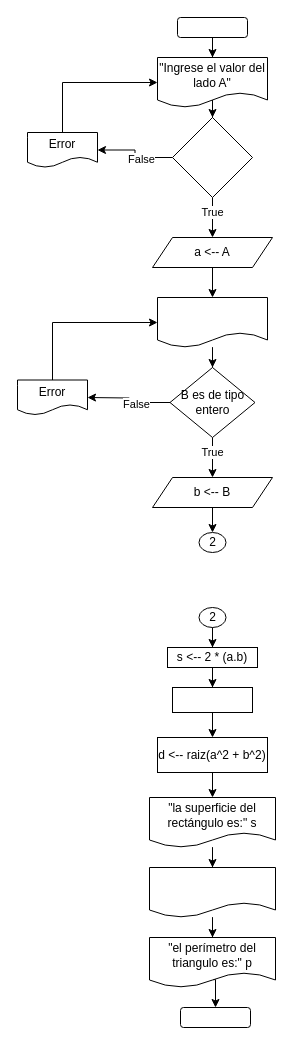
Some shapes in this 293 by 1045 pixel diagram are drawn without their labels. The centre of each missing label's shape, as x and y in pixels:
"Ingrese el valor del lado B": (212,322)
"la diagonal del rectángulo es:" d: (212,892)
A es de tipo entero: (212,157)
fin: (215,1017)
inicio: (212,27)
p <-- a * b: (212,699)
